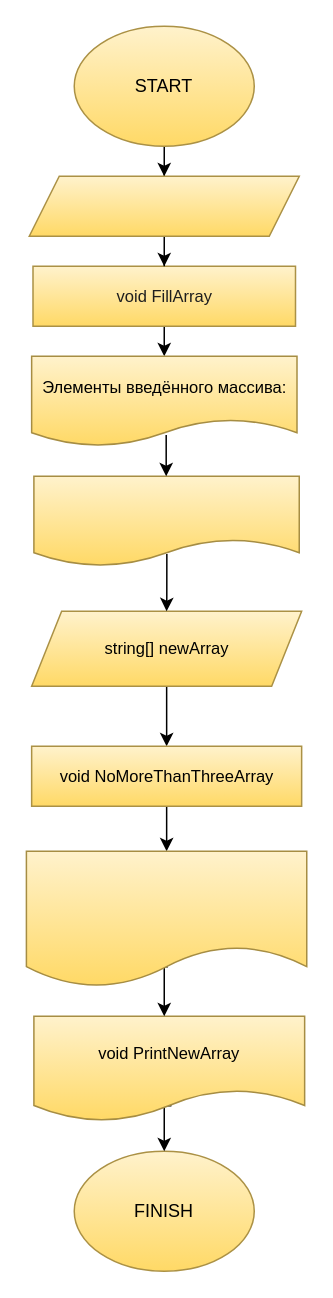
Some shapes in this 333 by 1298 pixel diagram are drawn without their labels. Each missing label, with the box of its shape:
string[] initialArray: (28, 175, 299, 236)
void PrintInitialArray: (32, 475, 299, 566)
Элементы нового массива, длина которых меньше, либо равна трём символам:: (25, 850, 307, 987)
